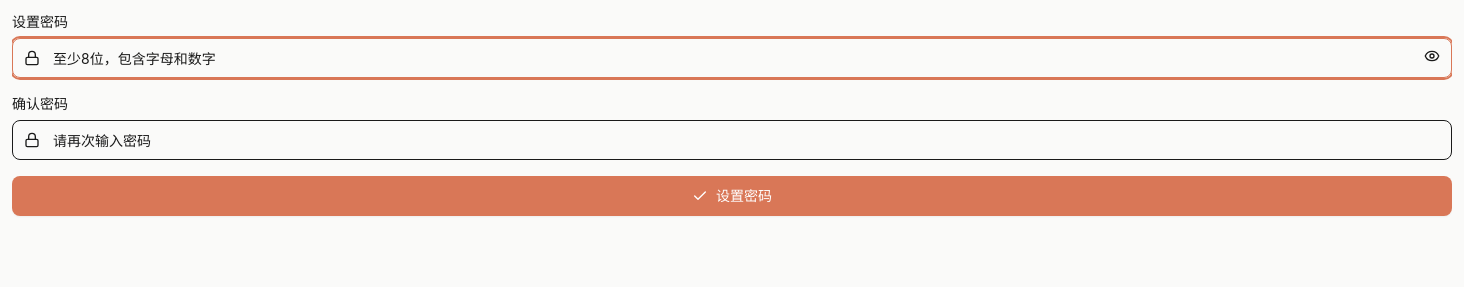
Test case: SetPasswordForm 组件 › 输入后清除密码错误
Click the button "设置密码" at (732, 196), box [12,176,1452,216]
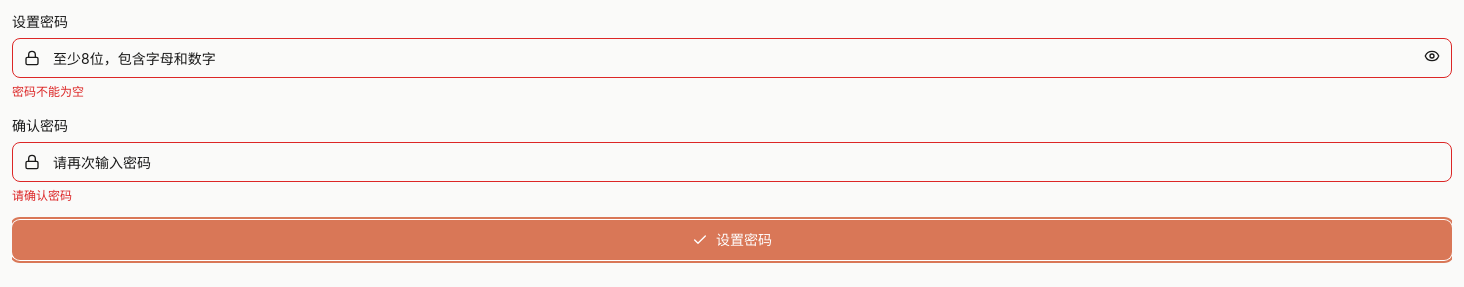
Check: the text "密码不能为空" is shown, box [12,84,84,99]
# 输入内容后错误消失
Type "a" into the password field with placeholder "至少8位，包含字母和数字" at (732, 58), box [12,38,1452,78]
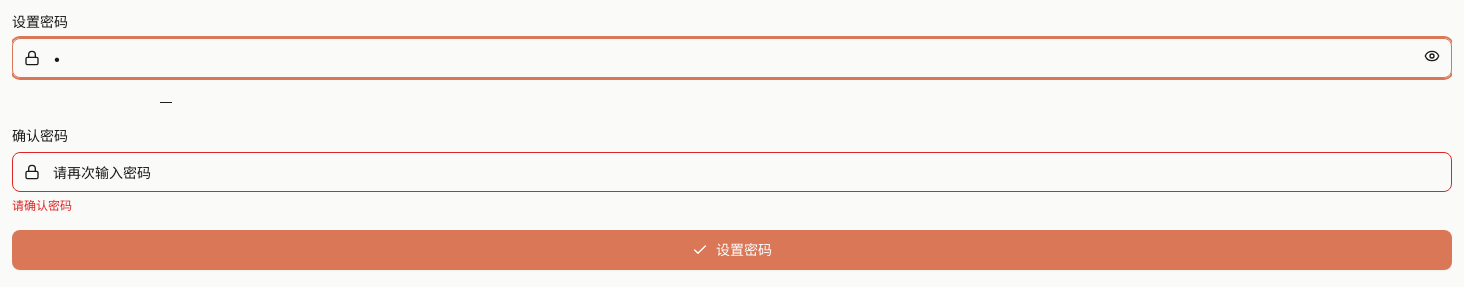
Check: the text "密码不能为空" is gone
